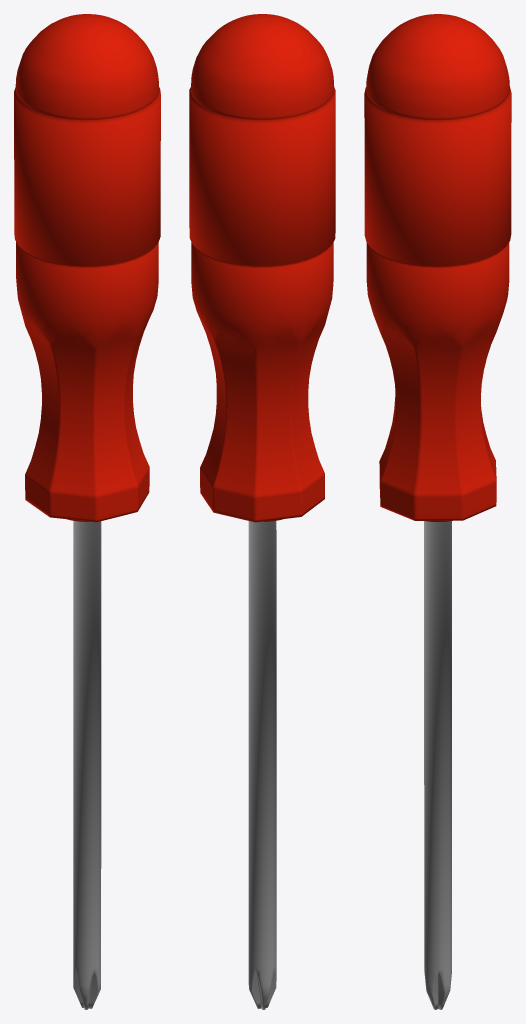
File: Screwdriver.fbx
3 renders of one model, left to right at view 1: azimuth 30°, elevation 25°; view 2: azimuth 150°, elevation 25°; view 3: azimuth 270°, elevation 25°, orthographic.
Visible parts, largest first — view 1: Cylinder; view 2: Cylinder; view 3: Cylinder.
Boxes of the visible parts, bbox=[...] form: Cylinder: bbox=[14, 14, 160, 1009]; Cylinder: bbox=[189, 14, 335, 1009]; Cylinder: bbox=[364, 14, 511, 1009].
Bounding box in the file's own units: 2.65 × 19.65 × 2.65.
